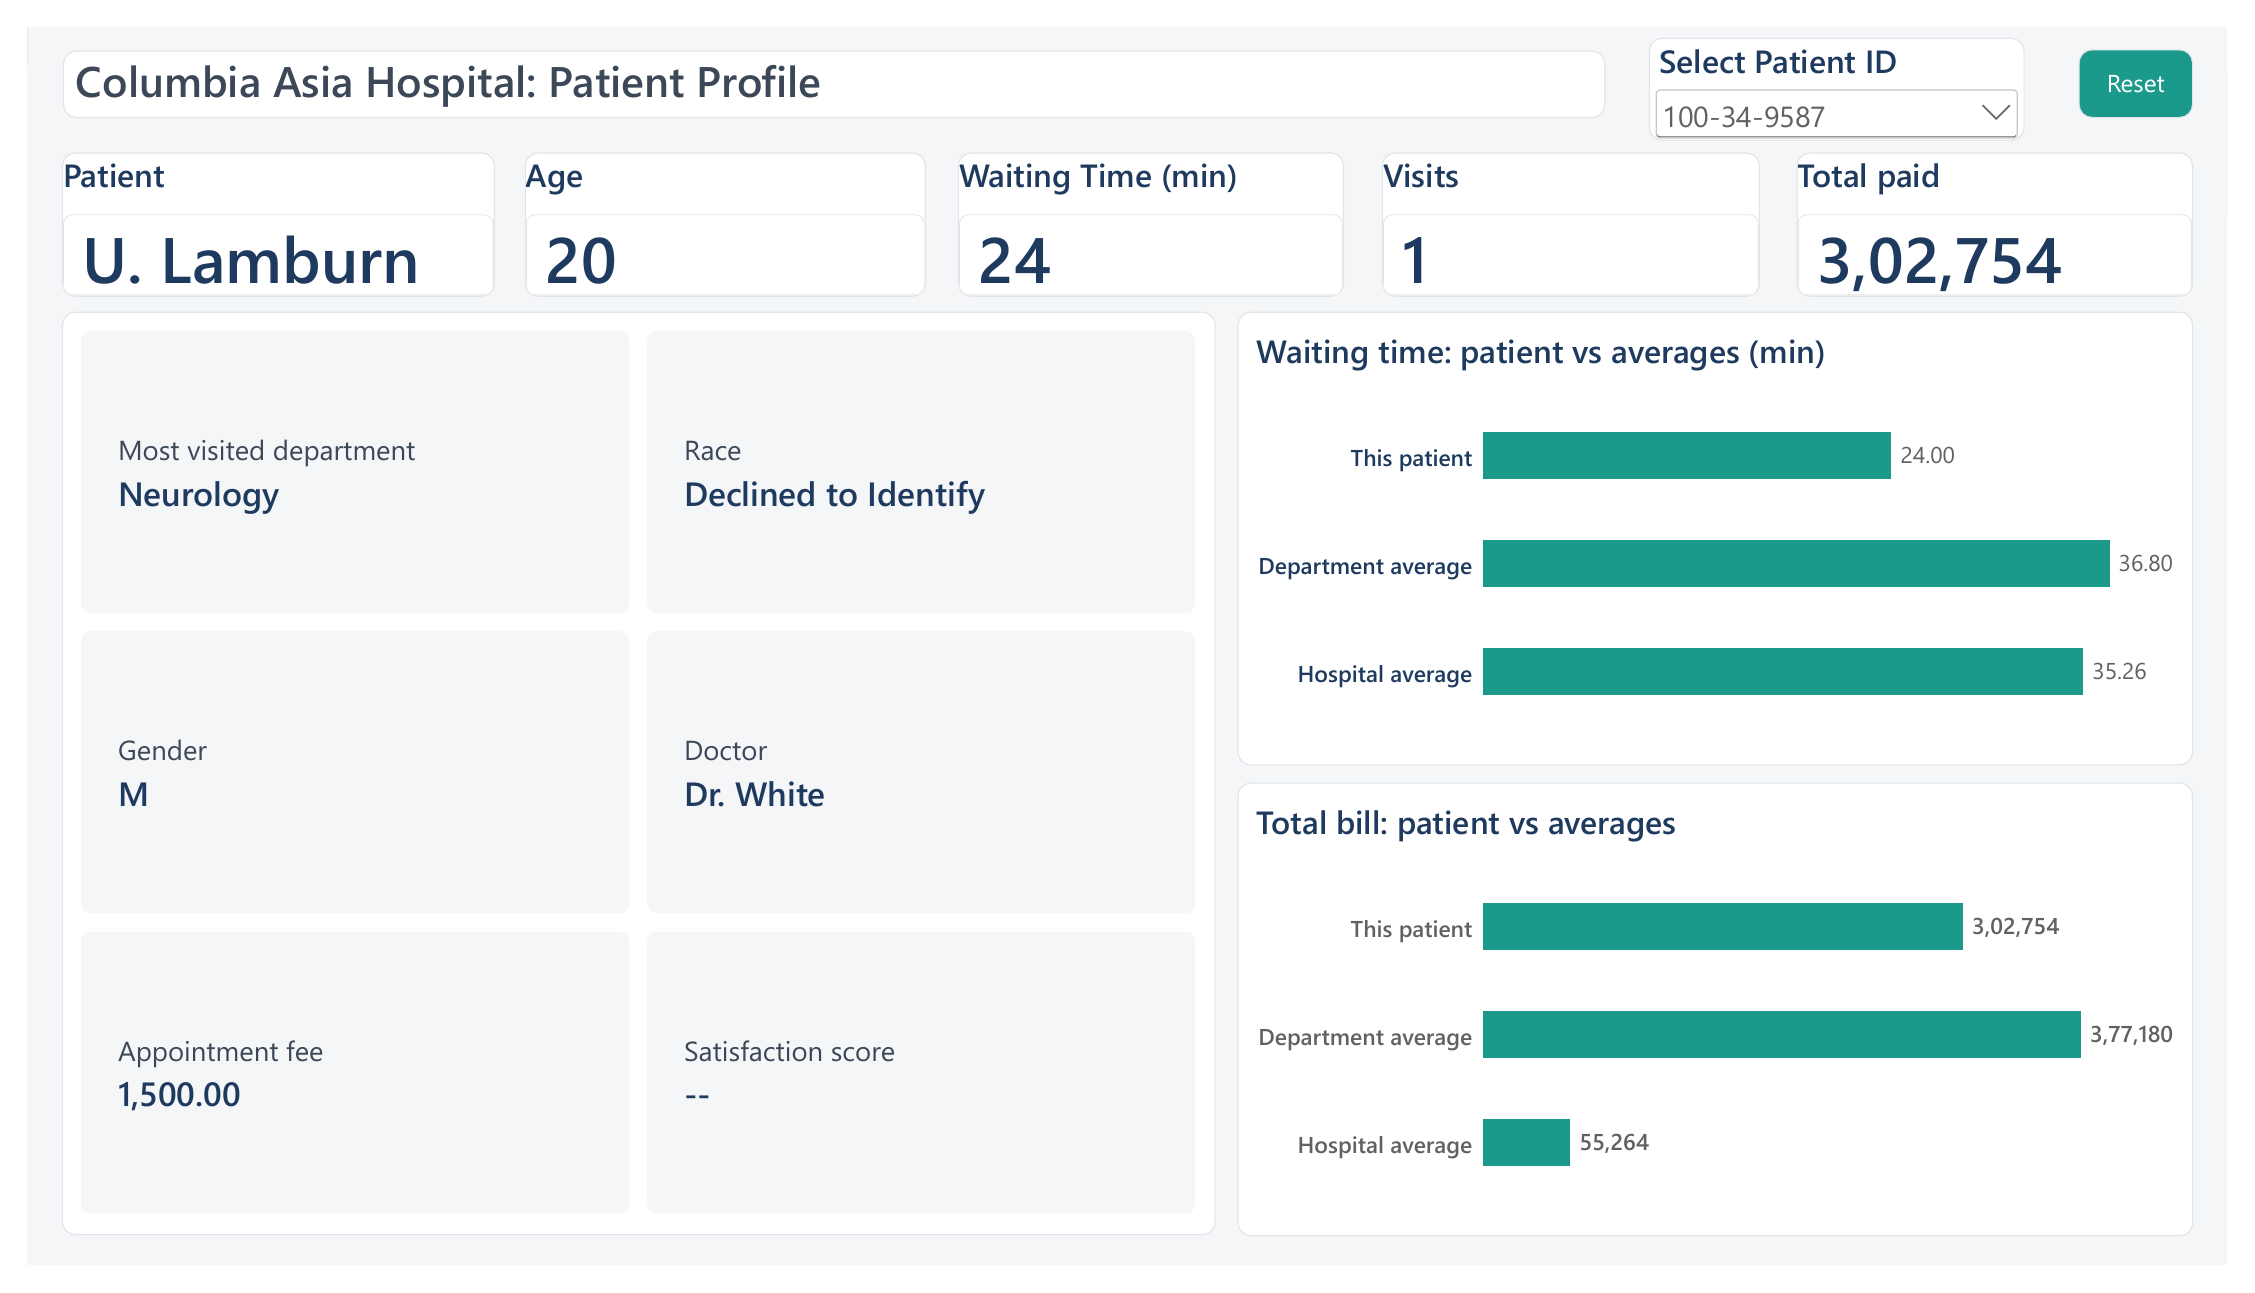

The dashboard page shown, as its layout file describes it:
{"tool":"powerbi","page":{"name":"Patients","canvas":[1920,1080],"ordinal":2},"visuals":[{"type":"textbox","box":[30.9,19.9,1346.2,59.6],"z":0},{"type":"cardVisual","title":"Patient","fields":{"Data":["hospital_data.patient_name_sel"]},"box":[30.2,109.4,378,125.3],"z":1000},{"type":"cardVisual","title":"Age","fields":{"Data":["hospital_data.avg_patient_age"]},"box":[434.2,109.4,349.9,125.3],"z":2000},{"type":"cardVisual","title":"Waiting Time (min)","fields":{"Data":["hospital_data.avg_wait_time"]},"box":[812.2,109.4,337,125.3],"z":3000},{"type":"cardVisual","title":"Visits","fields":{"Data":["hospital_data.total_visits"]},"box":[1181.5,109.4,330.5,125.3],"z":4000},{"type":"cardVisual","title":"Total paid","fields":{"Data":["hospital_data.total_revenue"]},"box":[1544.4,109.4,345.6,125.3],"z":5000},{"type":"actionButton","box":[1790,19,100,60],"z":6000},{"type":"slicer","fields":{"Values":["hospital_data.patient_id"]},"box":[1414.8,8.6,328.3,90.7],"z":7000},{"type":"cardVisual","fields":{"Data":["hospital_data.most_visited_dept","hospital_data.patient_race_sel","hospital_data.patient_gender_sel","hospital_data.patient_doctor_sel","hospital_data.avg_appointment_fee","hospital_data.avg_satisfaction"]},"box":[30.2,248.4,1006.6,805.7],"z":8000},{"type":"clusteredBarChart","title":"Waiting time: patient vs averages (min)","fields":{"Category":["compare_labels.label"],"Y":["hospital_data.wait_compare"]},"box":[1056.2,247.9,833.8,396],"z":9000},{"type":"clusteredBarChart","title":"Total bill: patient vs averages","fields":{"Category":["compare_labels.label"],"Y":["hospital_data.bill_compare"]},"box":[1056.2,658.8,833.8,396],"z":10000}]}

Visuals, with their boxes in screenshot pixels (x1, y1, x2, y2), scaled from the page's 1920x1080 canvas onto the 2255x1293 screenshot:
textbox: [36,24,1617,95]
"Patient" cardVisual: [35,131,479,281]
"Age" cardVisual: [510,131,921,281]
"Waiting Time (min)" cardVisual: [954,131,1350,281]
"Visits" cardVisual: [1388,131,1776,281]
"Total paid" cardVisual: [1814,131,2220,281]
actionButton: [2102,23,2220,95]
slicer - hospital_data.patient_id: [1662,10,2047,119]
cardVisual - hospital_data.most_visited_dept x hospital_data.patient_race_sel: [35,297,1218,1262]
"Waiting time: patient vs averages (min)" clusteredBarChart: [1240,297,2220,771]
"Total bill: patient vs averages" clusteredBarChart: [1240,789,2220,1263]
